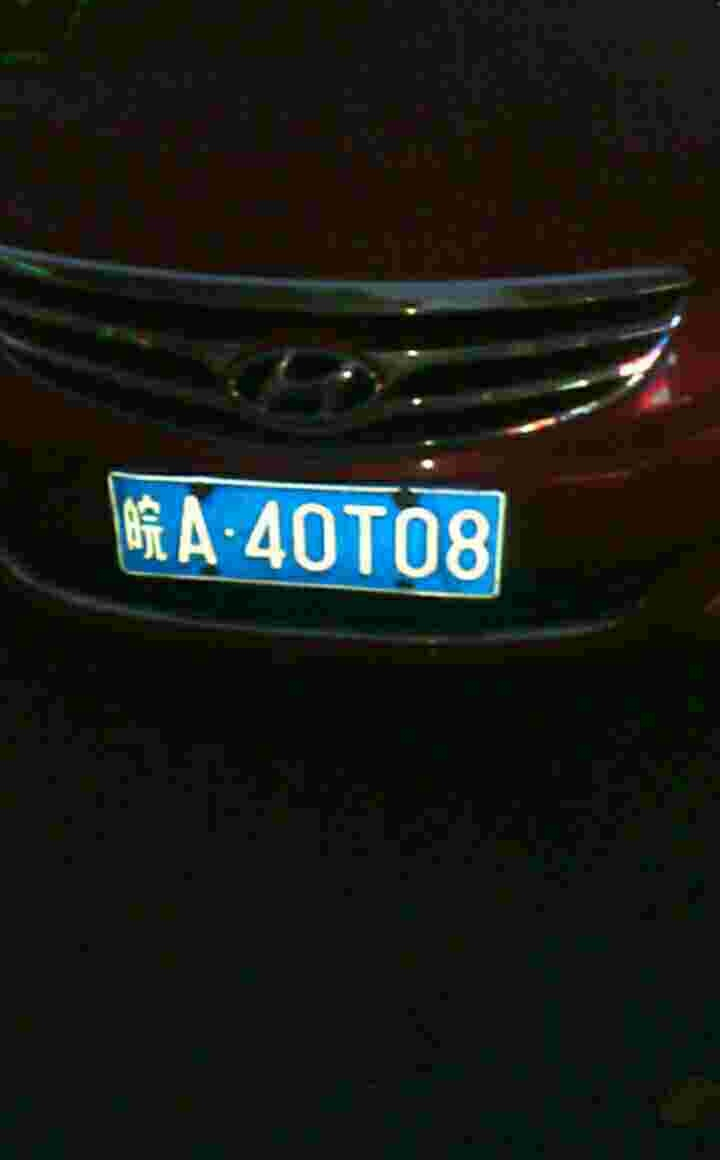license_plate: (125, 474, 508, 588)
